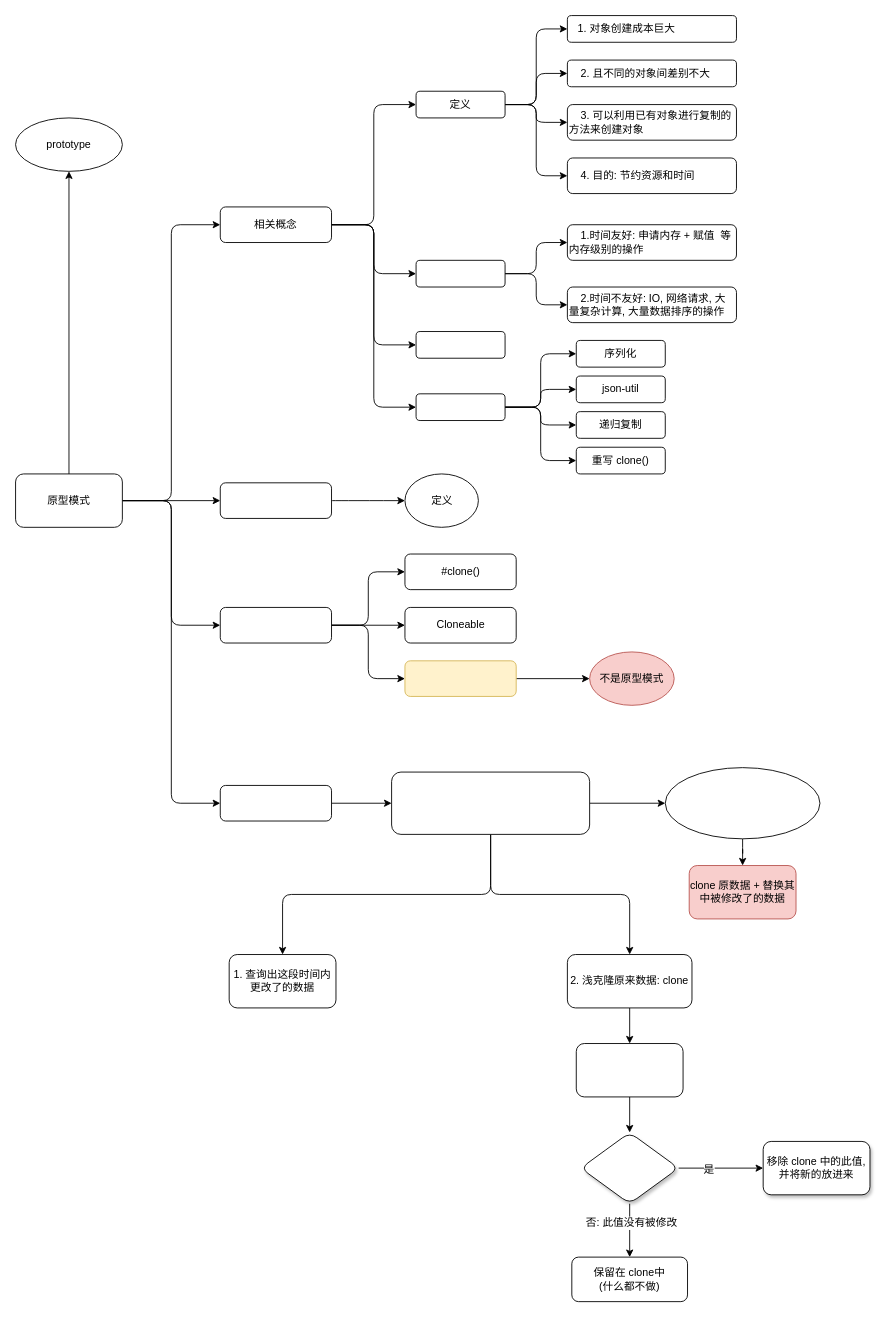
Image size: 891x1317. Some labels were removed from this diagram. The centre of each missing label's shape, as x and y in pixels:
@Scope("prototype): (x=460, y=678)
java 中的体现: (x=275, y=625)
使用实例: (x=275, y=803)
创建成本: (x=460, y=273)
存在于 clone 中: (x=630, y=1169)
此时构建(查询数据库计算) 是消耗资源的,可以考虑使用 prototype: (x=742, y=803)
浅克隆: (x=460, y=344)
深克隆: (x=460, y=407)
适用场景: (x=275, y=500)
遍历1中被修改了的值: (x=629, y=1070)
需求: 内存中有一批通过计算得到的数据, 且定时更新, 且两个版本的数据要隔离开(某一时间只出现一个完整版本数据): (x=490, y=802)
